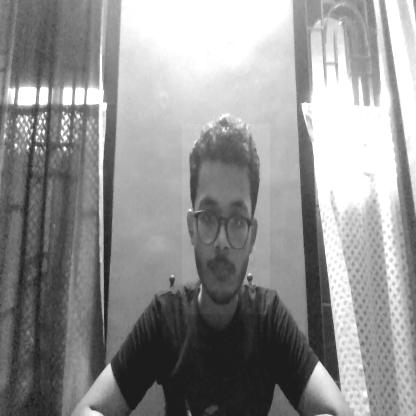Normal: (182, 124, 270, 314)
